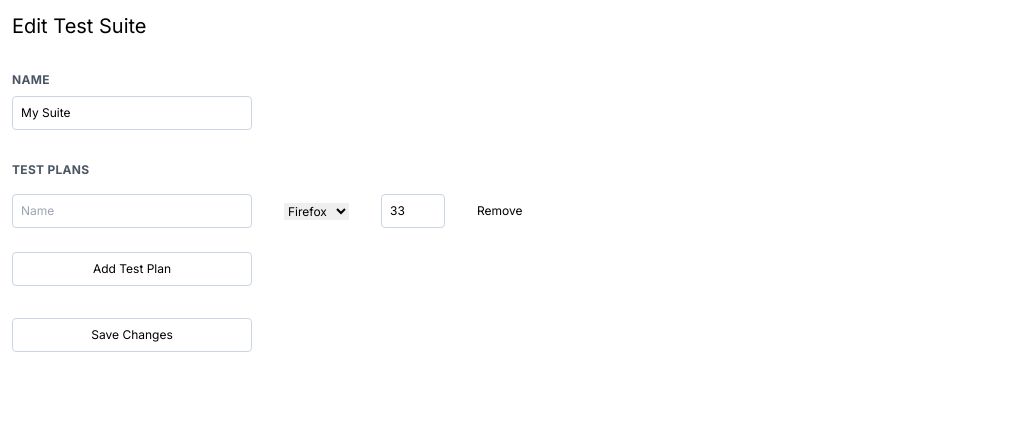
Test: ListTestSuitesRoute › requires a name for the test plan.
The width and height of the screenshot is (1036, 439).
What coordinates should you click on to do the following:
click the button "Save Changes"
I would click on:
 (132, 335)
Its box is [12,318,252,352].
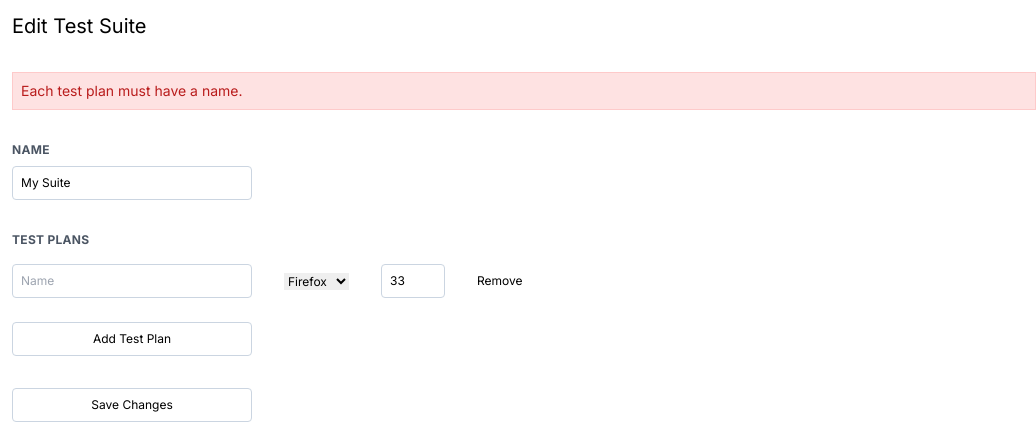
Expected: the text with test id "error-message" reads "Each test plan must have a name.", [21,82,242,99]
